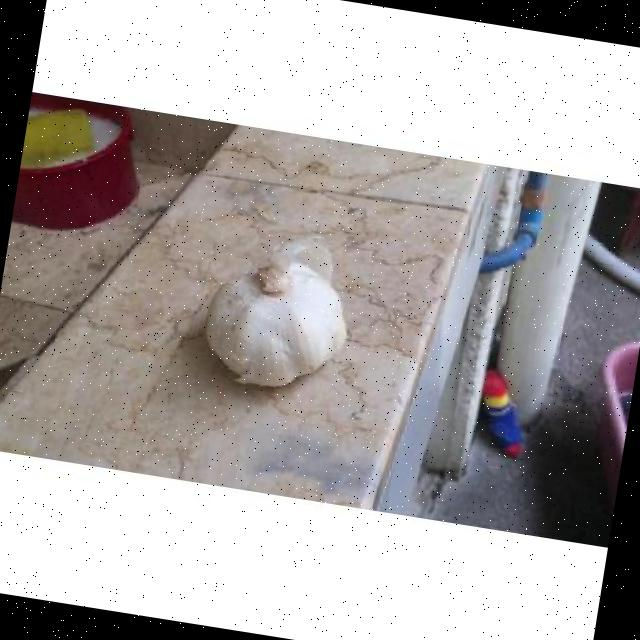garlic: (206, 236, 347, 386)
